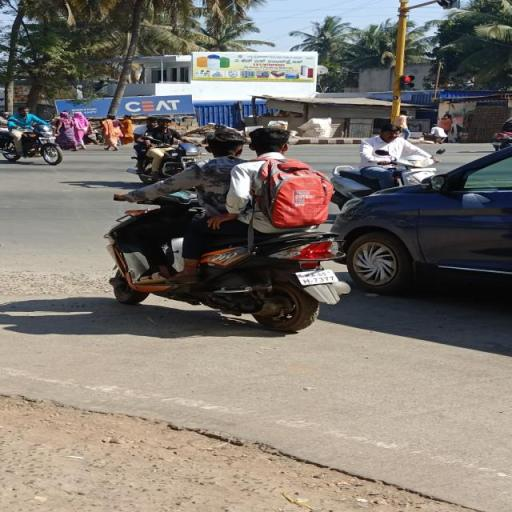bike: (96, 123, 357, 339)
numberplate: (293, 262, 339, 288)
withouthelmet: (250, 127, 292, 154), (205, 131, 244, 157)
